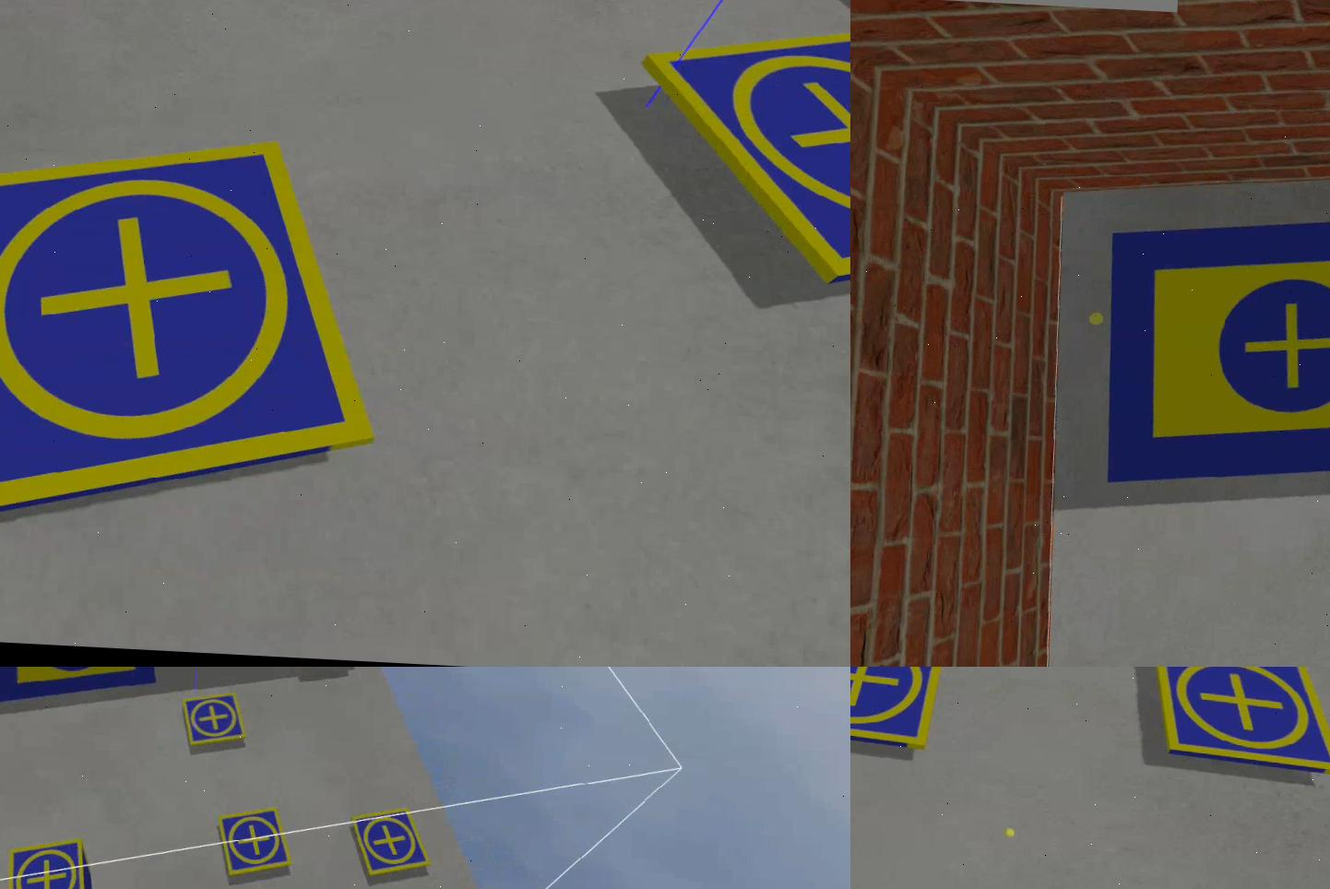large_base: (1092, 197, 1330, 506), (1, 668, 160, 710)
small_base: (1, 122, 395, 552), (628, 15, 851, 292), (1150, 668, 1330, 782), (851, 668, 945, 752), (350, 810, 438, 883), (218, 808, 297, 884), (180, 691, 251, 755), (9, 840, 93, 889)
